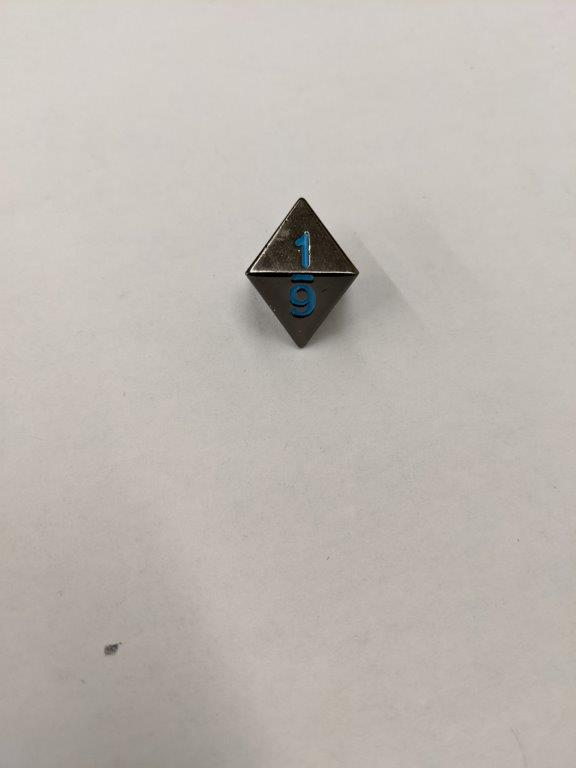d8-1: (245, 196, 360, 349)
